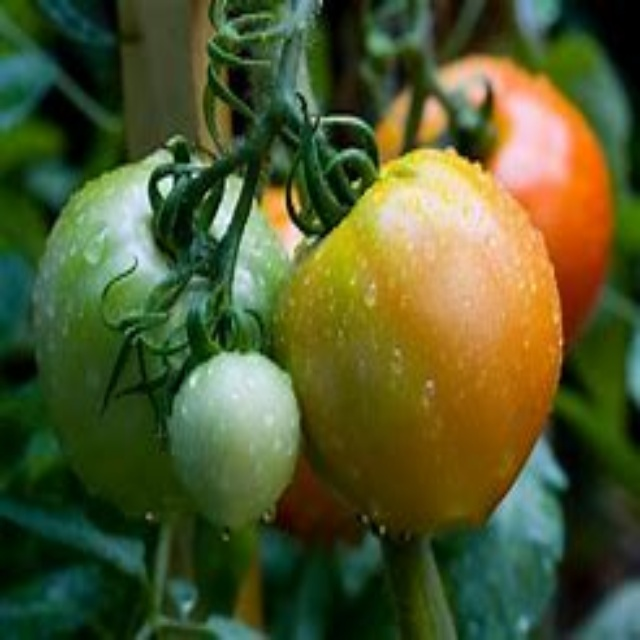tomato: (36, 151, 302, 545), (287, 164, 557, 536), (378, 60, 616, 344), (180, 354, 292, 526)
